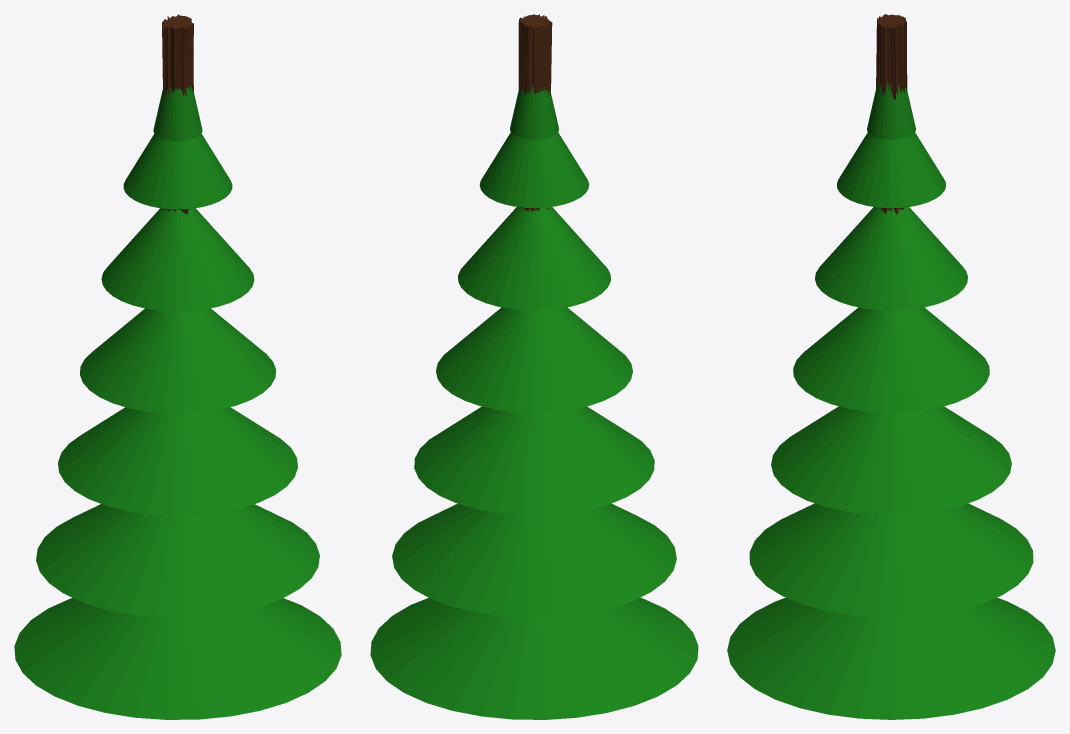
Rendered from pine_dense.glb.
3 renders of one model, left to right at view 1: azimuth 30°, elevation 25°; view 2: azimuth 150°, elevation 25°; view 3: azimuth 270°, elevation 25°, orthographic.
Parts seen in each view (by area): view 1: ColoredPine_Dense; view 2: ColoredPine_Dense; view 3: ColoredPine_Dense.
Part boxes in pixels (box(x1,y1,x2,y2)): ColoredPine_Dense: box(14, 14, 341, 719); ColoredPine_Dense: box(370, 14, 698, 719); ColoredPine_Dense: box(727, 14, 1055, 719).
Size of the model in its own units: 8 by 18.14 by 8.
